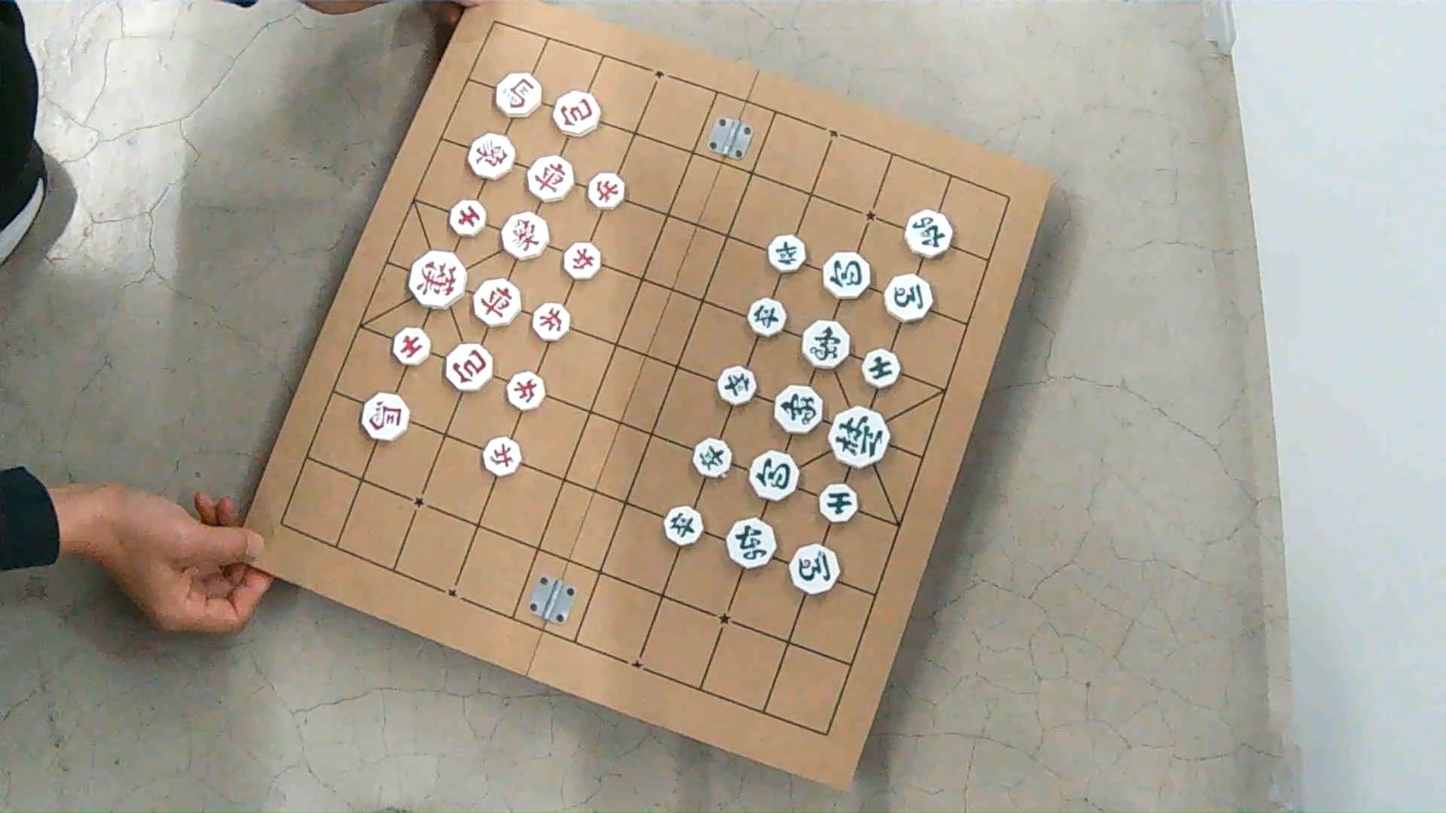cha_green: (726, 519, 775, 568), (905, 210, 952, 258)
cha_red: (473, 279, 520, 326), (527, 156, 573, 201)
jol_green: (663, 506, 702, 546), (693, 437, 731, 477), (718, 367, 756, 405), (748, 298, 786, 336), (768, 234, 805, 273)
jol_red: (506, 372, 544, 410), (483, 437, 520, 476), (563, 242, 600, 279), (532, 303, 569, 340), (587, 172, 624, 209)
ma_green: (790, 544, 839, 594), (884, 275, 932, 321)
ma_red: (361, 394, 408, 441), (496, 73, 541, 118)
po_green: (749, 450, 798, 501), (823, 252, 871, 299)
po_red: (445, 343, 492, 391), (554, 91, 599, 136)
sa_green: (820, 483, 857, 522), (862, 350, 898, 388)
sa_red: (392, 327, 429, 366), (449, 199, 485, 236)
sang_green: (773, 385, 822, 434), (803, 320, 849, 369)
sang_red: (501, 212, 548, 259), (468, 133, 514, 179)
wang_green: (830, 407, 889, 467)
wang_red: (409, 251, 465, 308)
